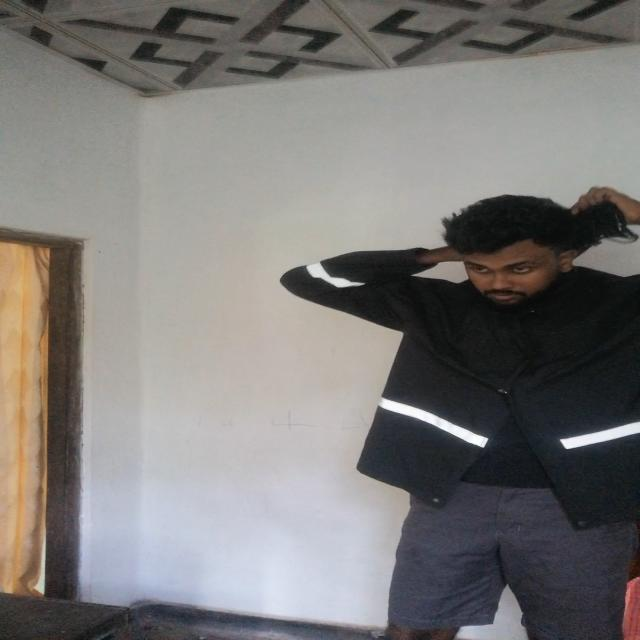Jacket_Wearer: (259, 230, 640, 516)
